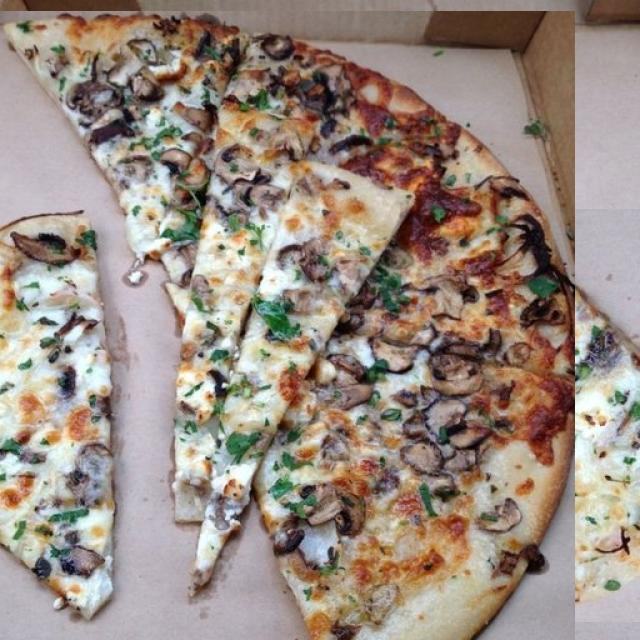pizza: (0, 11, 575, 640), (459, 209, 640, 622)
